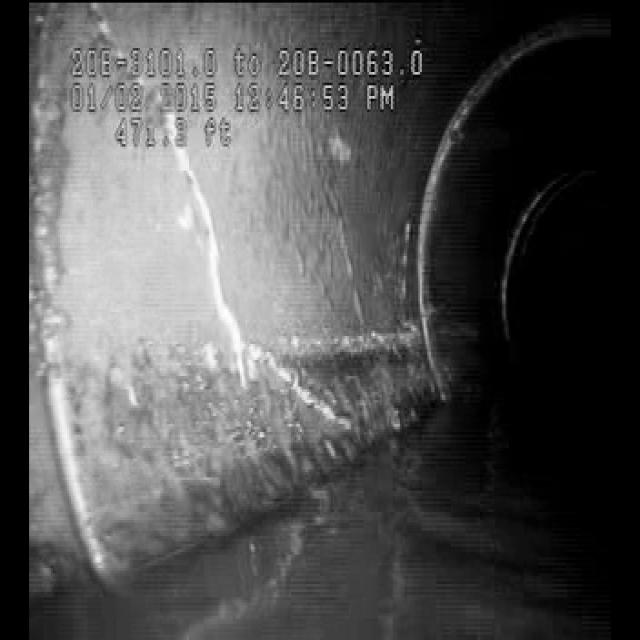Crack: (166, 184, 282, 428)
